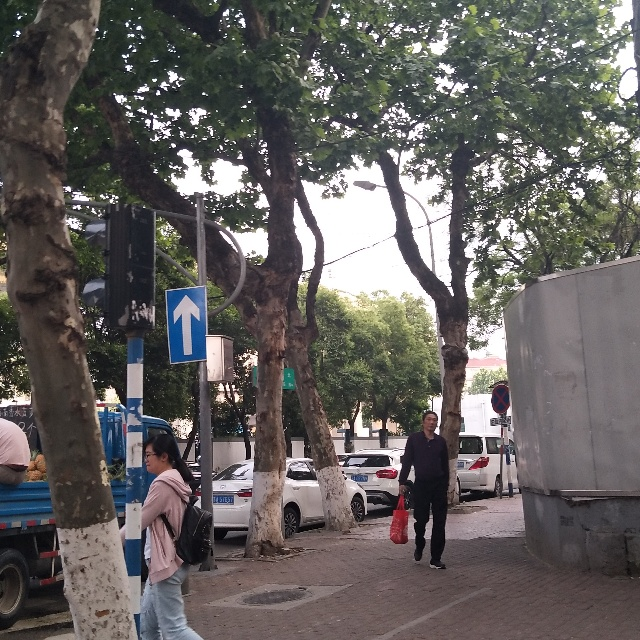straight: (156, 289, 213, 375)
